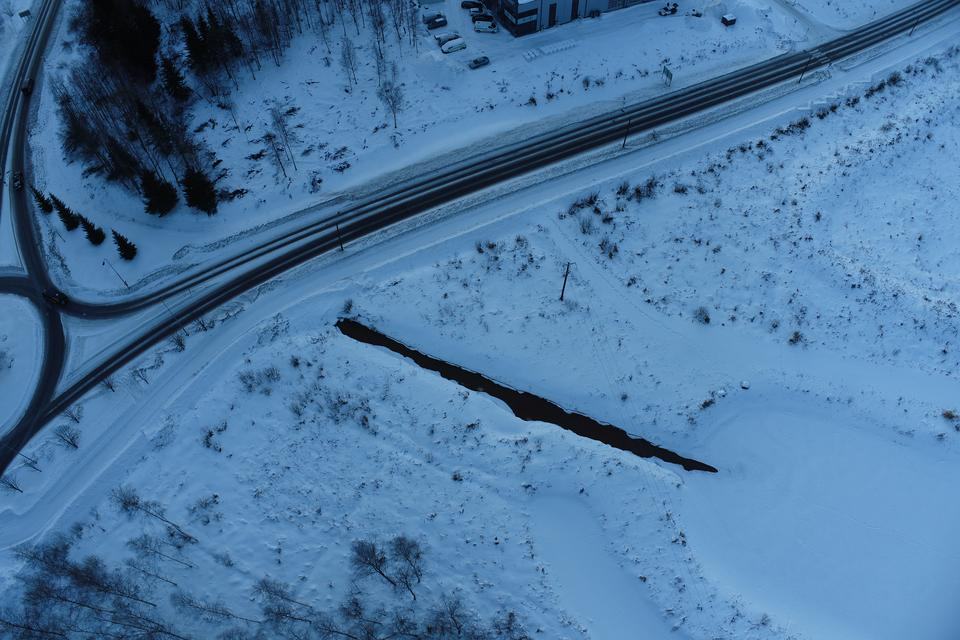intersection: (782, 4, 857, 105)
roundabout: (0, 232, 90, 514)
